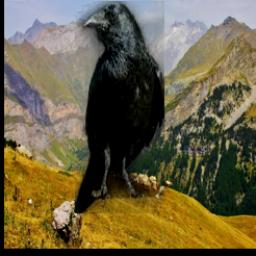Crow: (75, 1, 164, 213)
